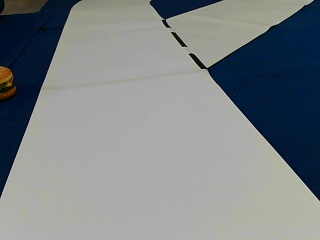burger: (0, 63, 16, 100)
